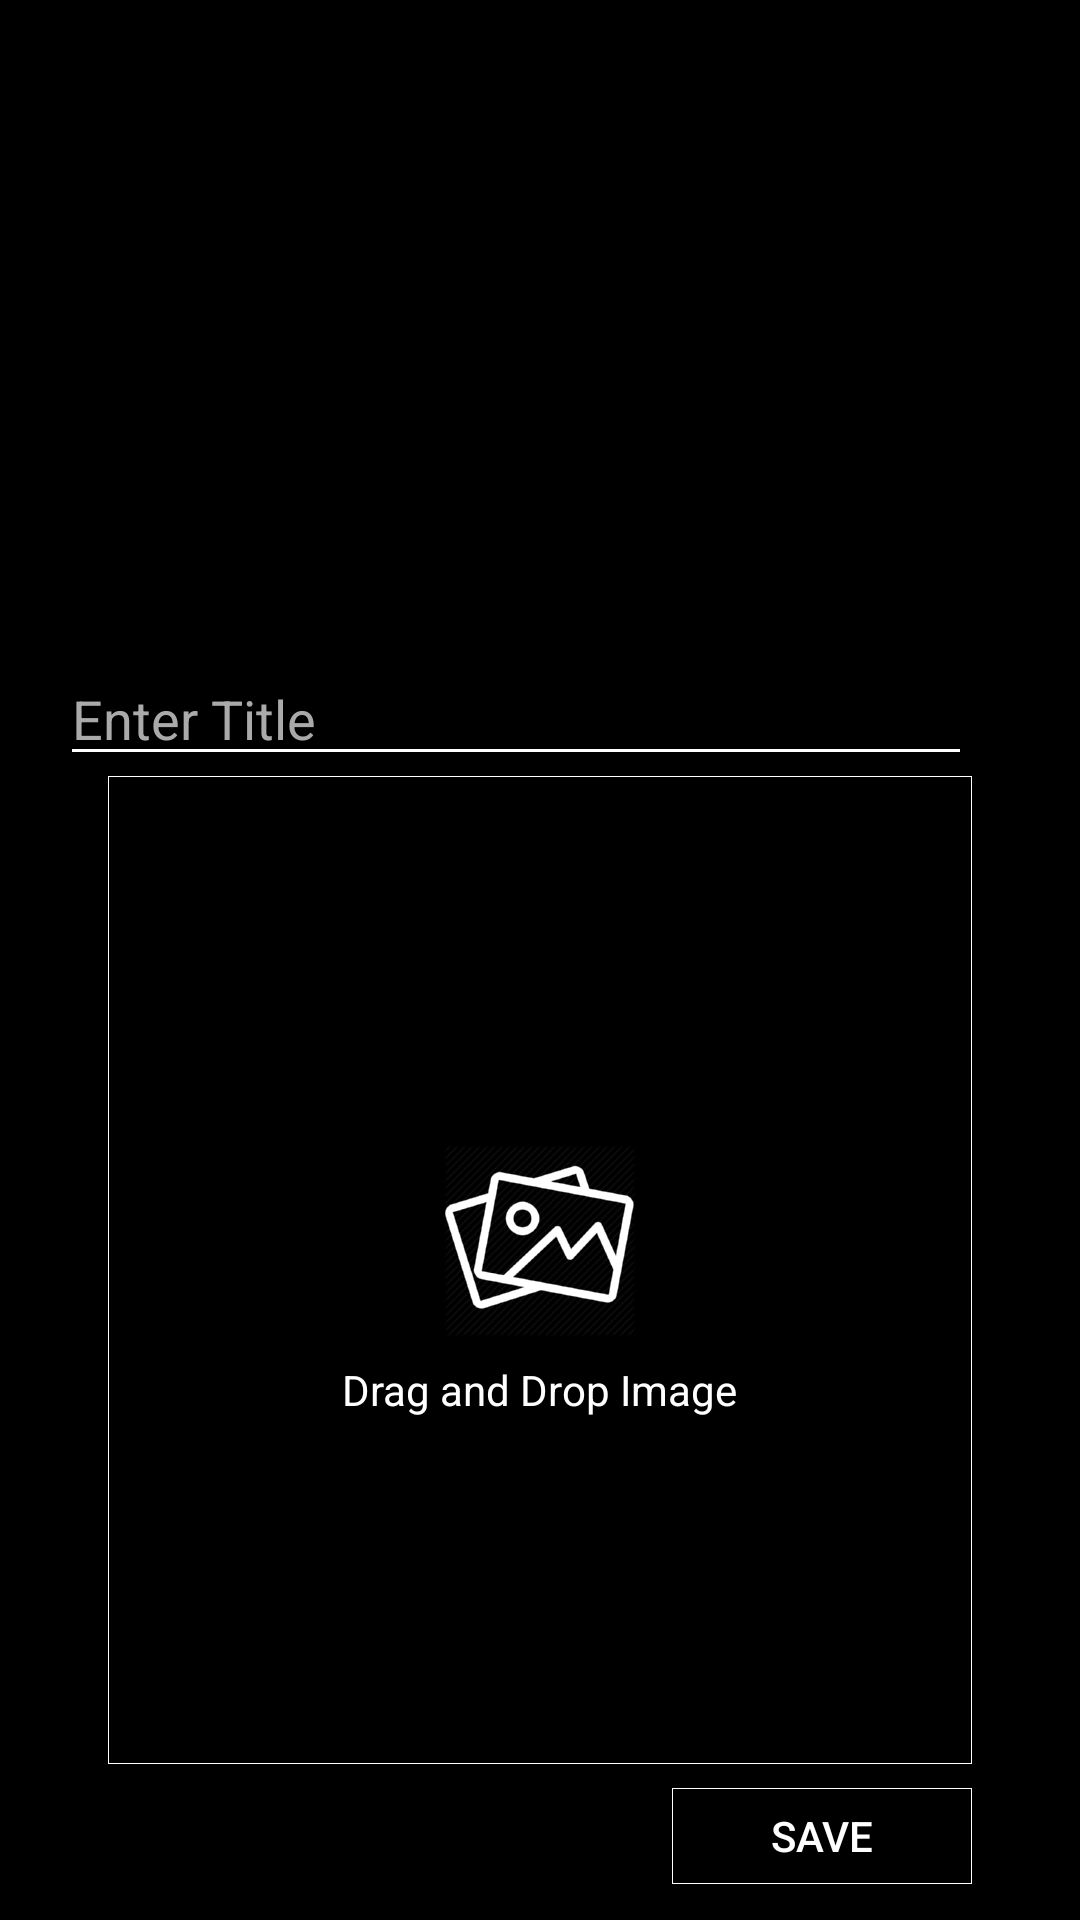

Screen size 1080px×1920px. Icon name, then its center in pixels as (x,y):
gallery: (539,1237)
